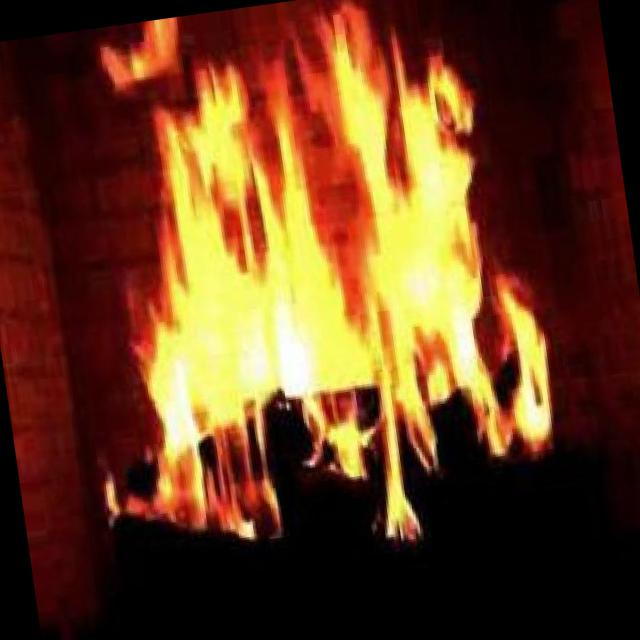Fire: (112, 14, 540, 482)
